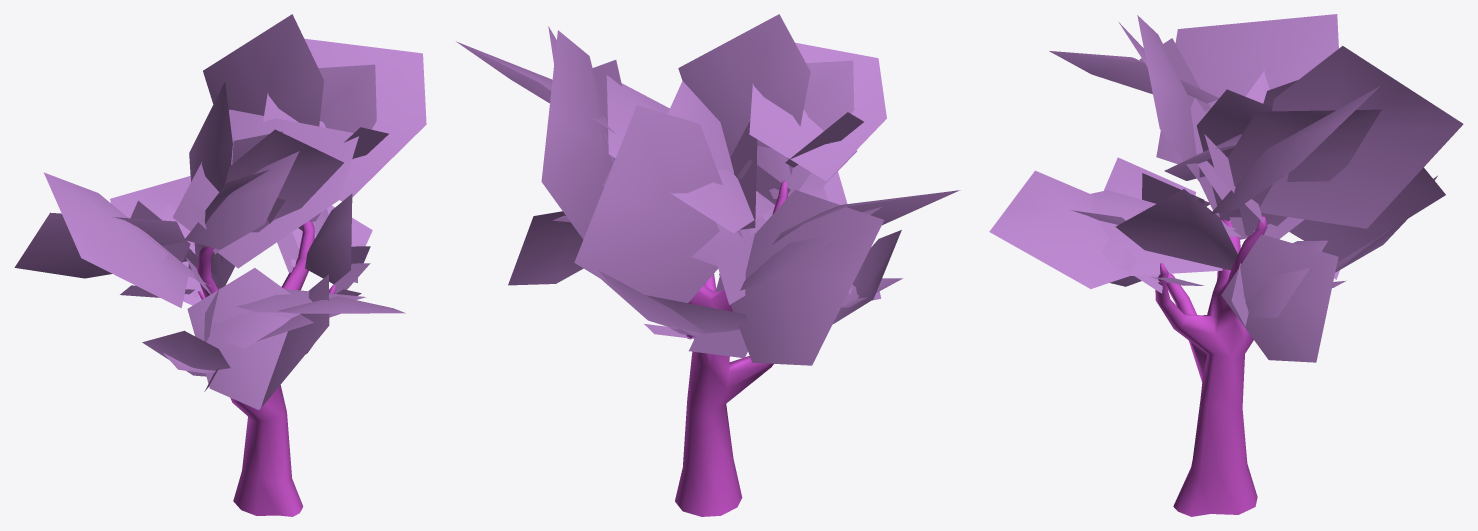
File: tree_ancient_medium.fbx
The picture shows the model from 3 angles, left to right: view 1: azimuth 30°, elevation 25°; view 2: azimuth 150°, elevation 25°; view 3: azimuth 270°, elevation 25°; orthographic projection. The views are drawn at different scales.
Parts seen in each view (by area): view 1: L6 base tree_leaves, L6 base tree_wood; view 2: L6 base tree_leaves, L6 base tree_wood; view 3: L6 base tree_leaves, L6 base tree_wood.
Part boxes in pixels (x1,y1,x2,y2): L6 base tree_leaves: (14, 14, 426, 409); L6 base tree_wood: (196, 220, 335, 516); L6 base tree_leaves: (456, 14, 960, 365); L6 base tree_wood: (675, 181, 787, 516); L6 base tree_leaves: (989, 14, 1463, 362); L6 base tree_wood: (1155, 215, 1267, 516).
Size of the model in its own units: 76258 by 80195 by 68710.
